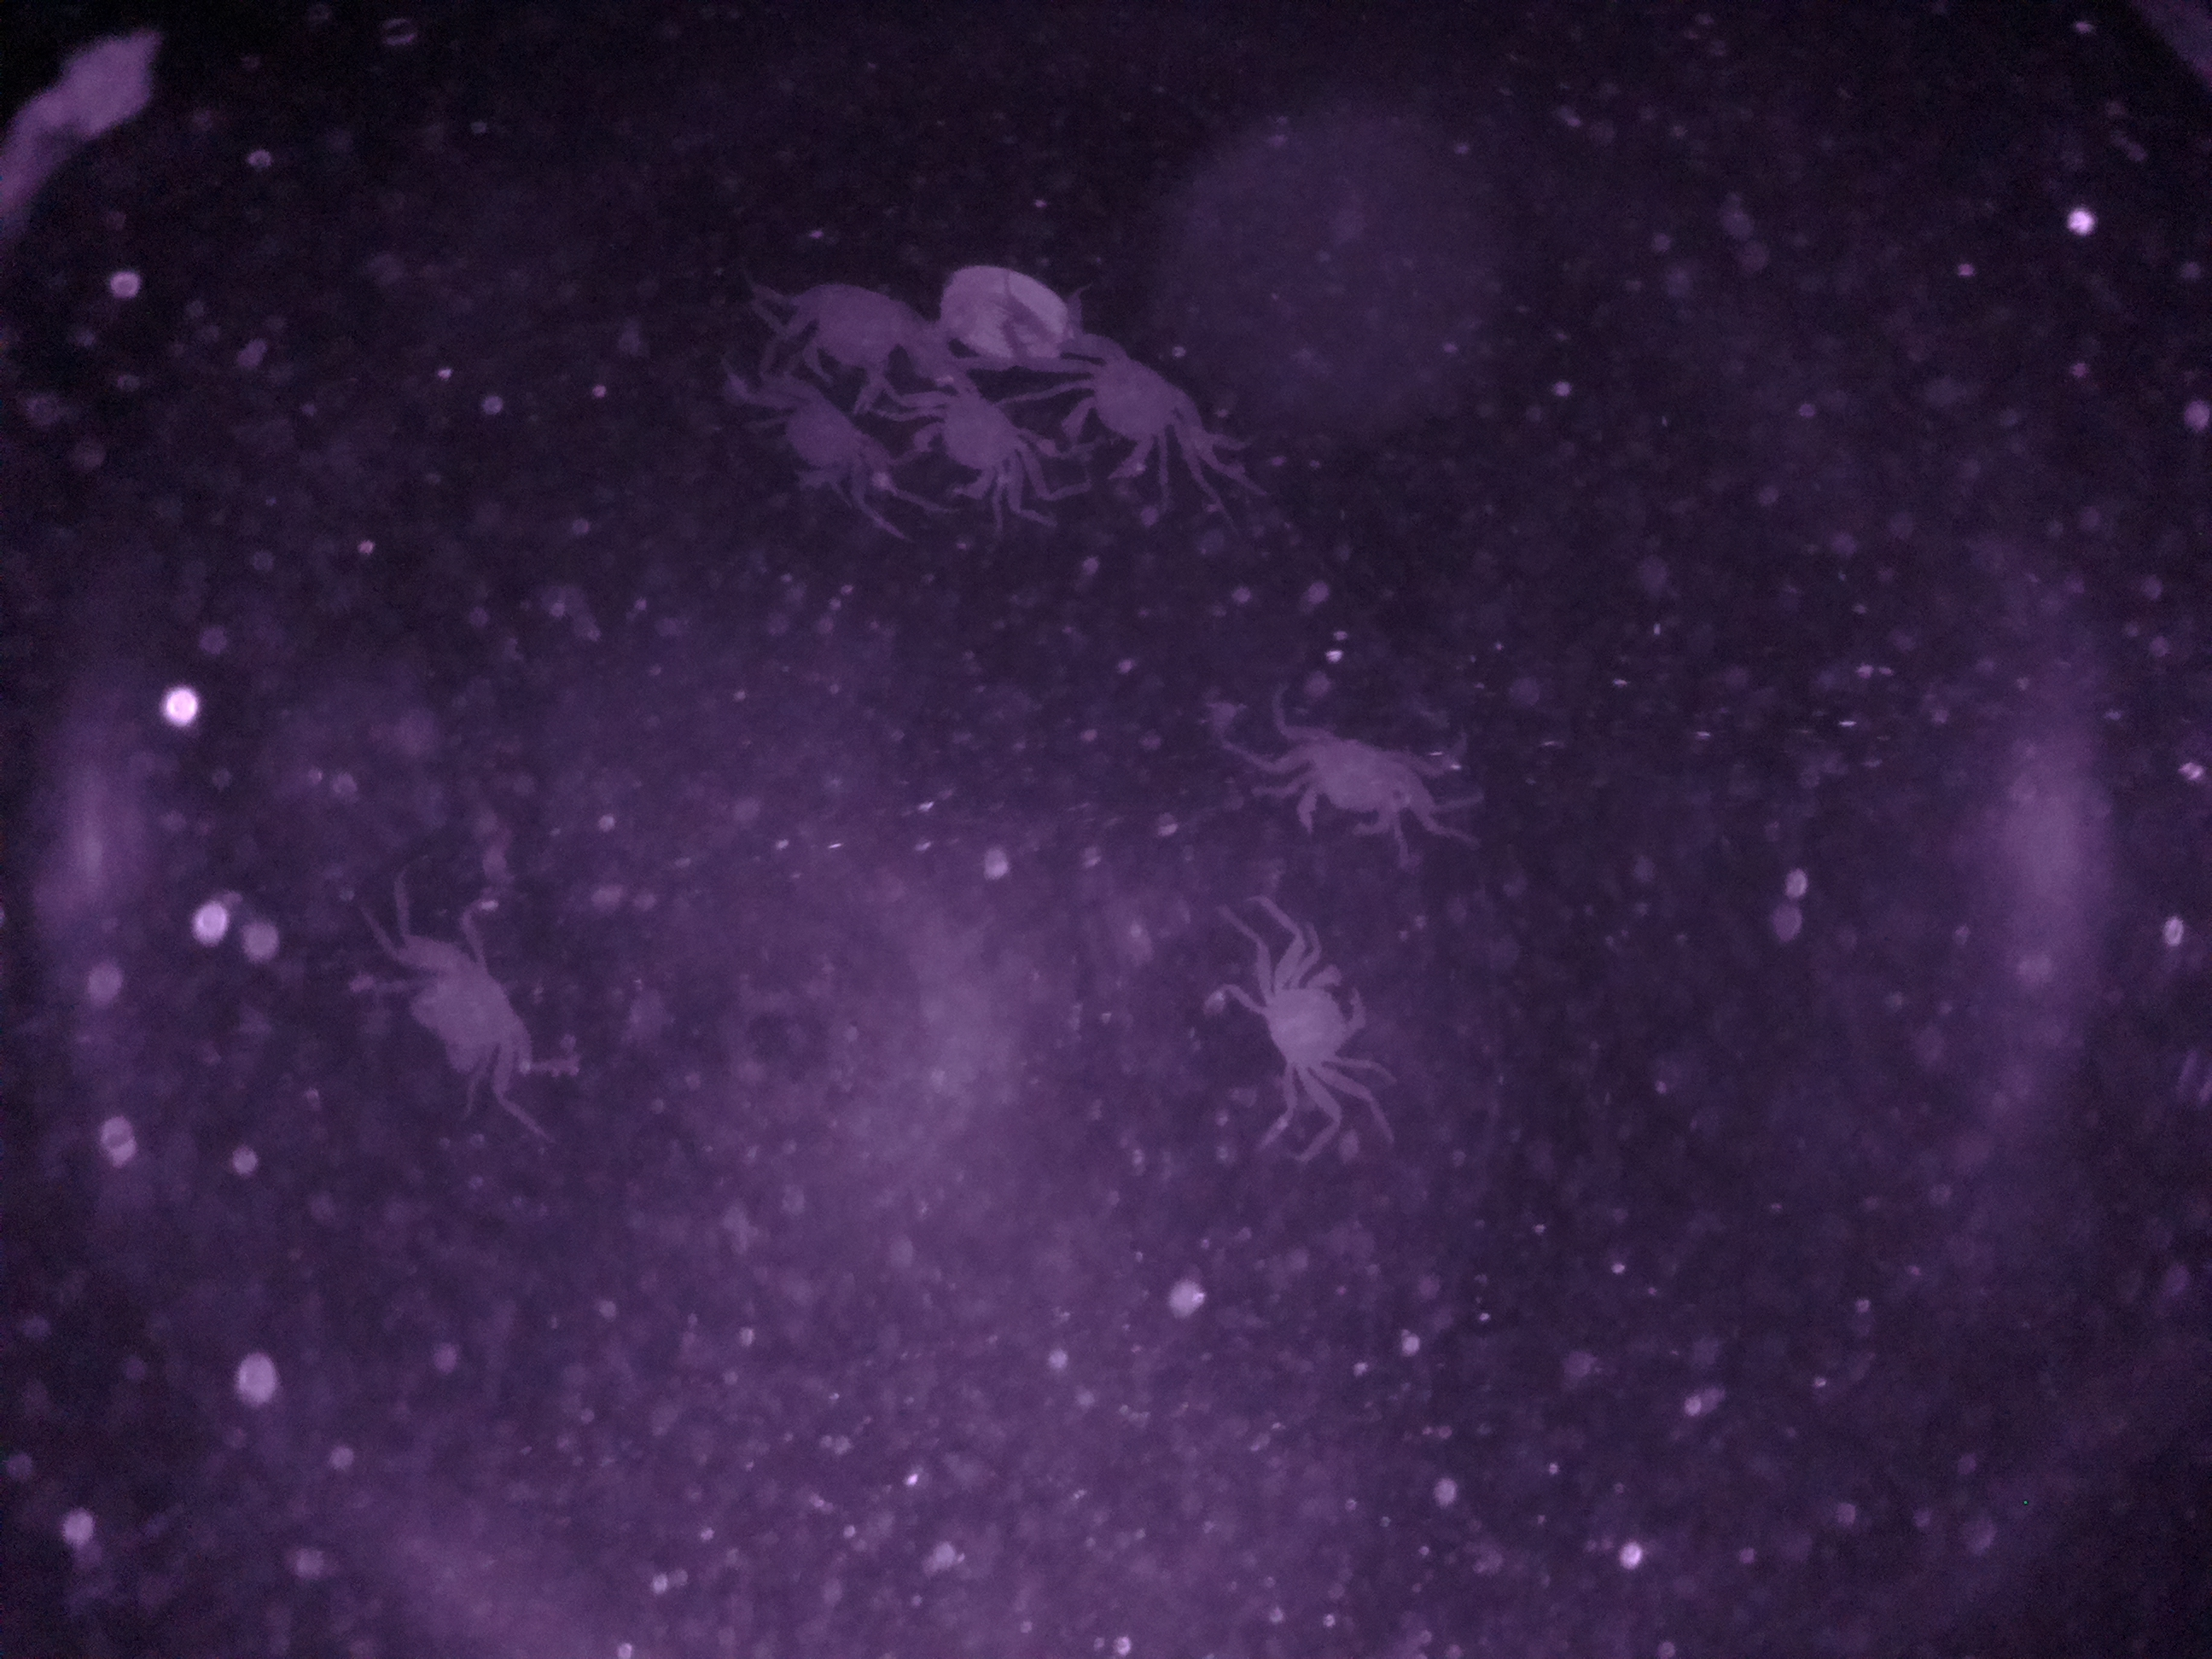Crab: (368, 894, 571, 1112), (711, 352, 925, 544), (1226, 913, 1402, 1140), (900, 335, 1061, 538), (1038, 321, 1233, 486)
